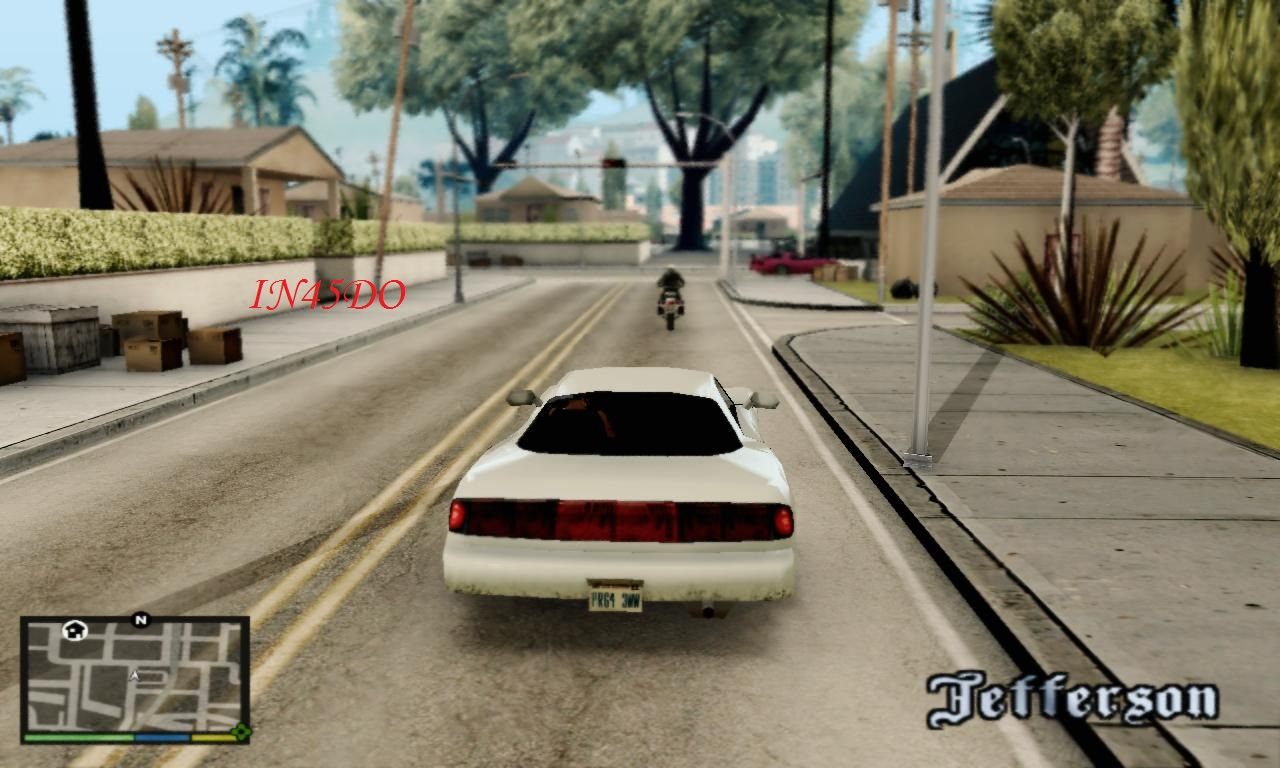bike: (652, 270, 687, 342)
car: (448, 361, 807, 626)
